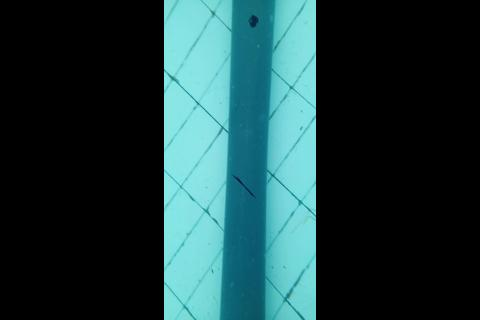kebocoran: (248, 14, 260, 28)
keretakan: (230, 171, 256, 201)
